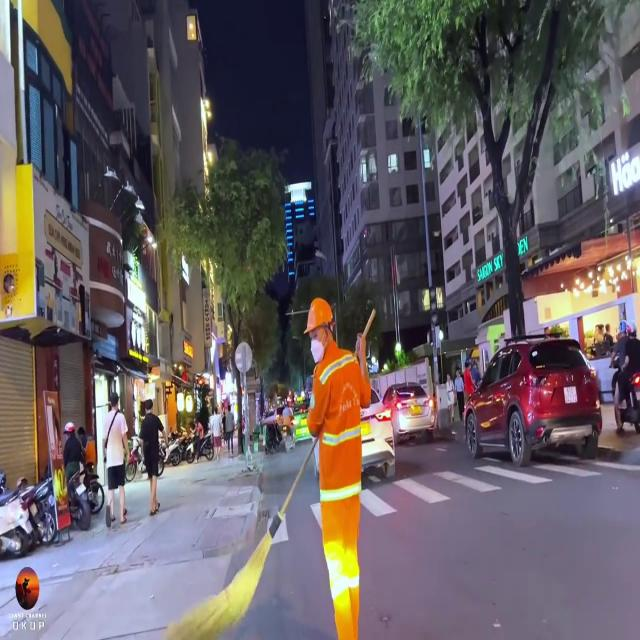bien_trang: (564, 382, 580, 406)
bien_vang: (356, 419, 374, 436)
